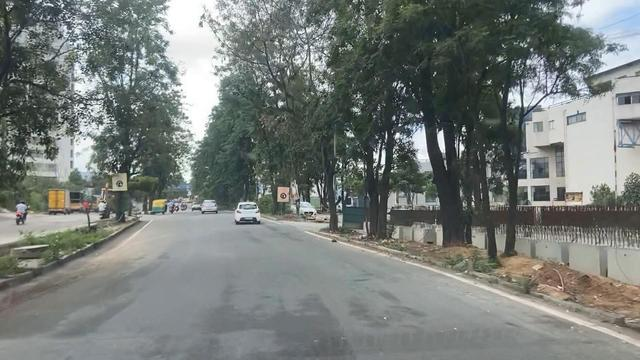LMV: (235, 201, 259, 223), (203, 199, 218, 212)
RoadDamages: (287, 293, 348, 332), (377, 295, 421, 334), (43, 302, 95, 334), (211, 301, 255, 335), (87, 259, 134, 287), (96, 295, 133, 330), (126, 253, 164, 282), (139, 337, 184, 360), (285, 340, 336, 360), (539, 307, 576, 333), (191, 343, 226, 360), (243, 349, 284, 360)
